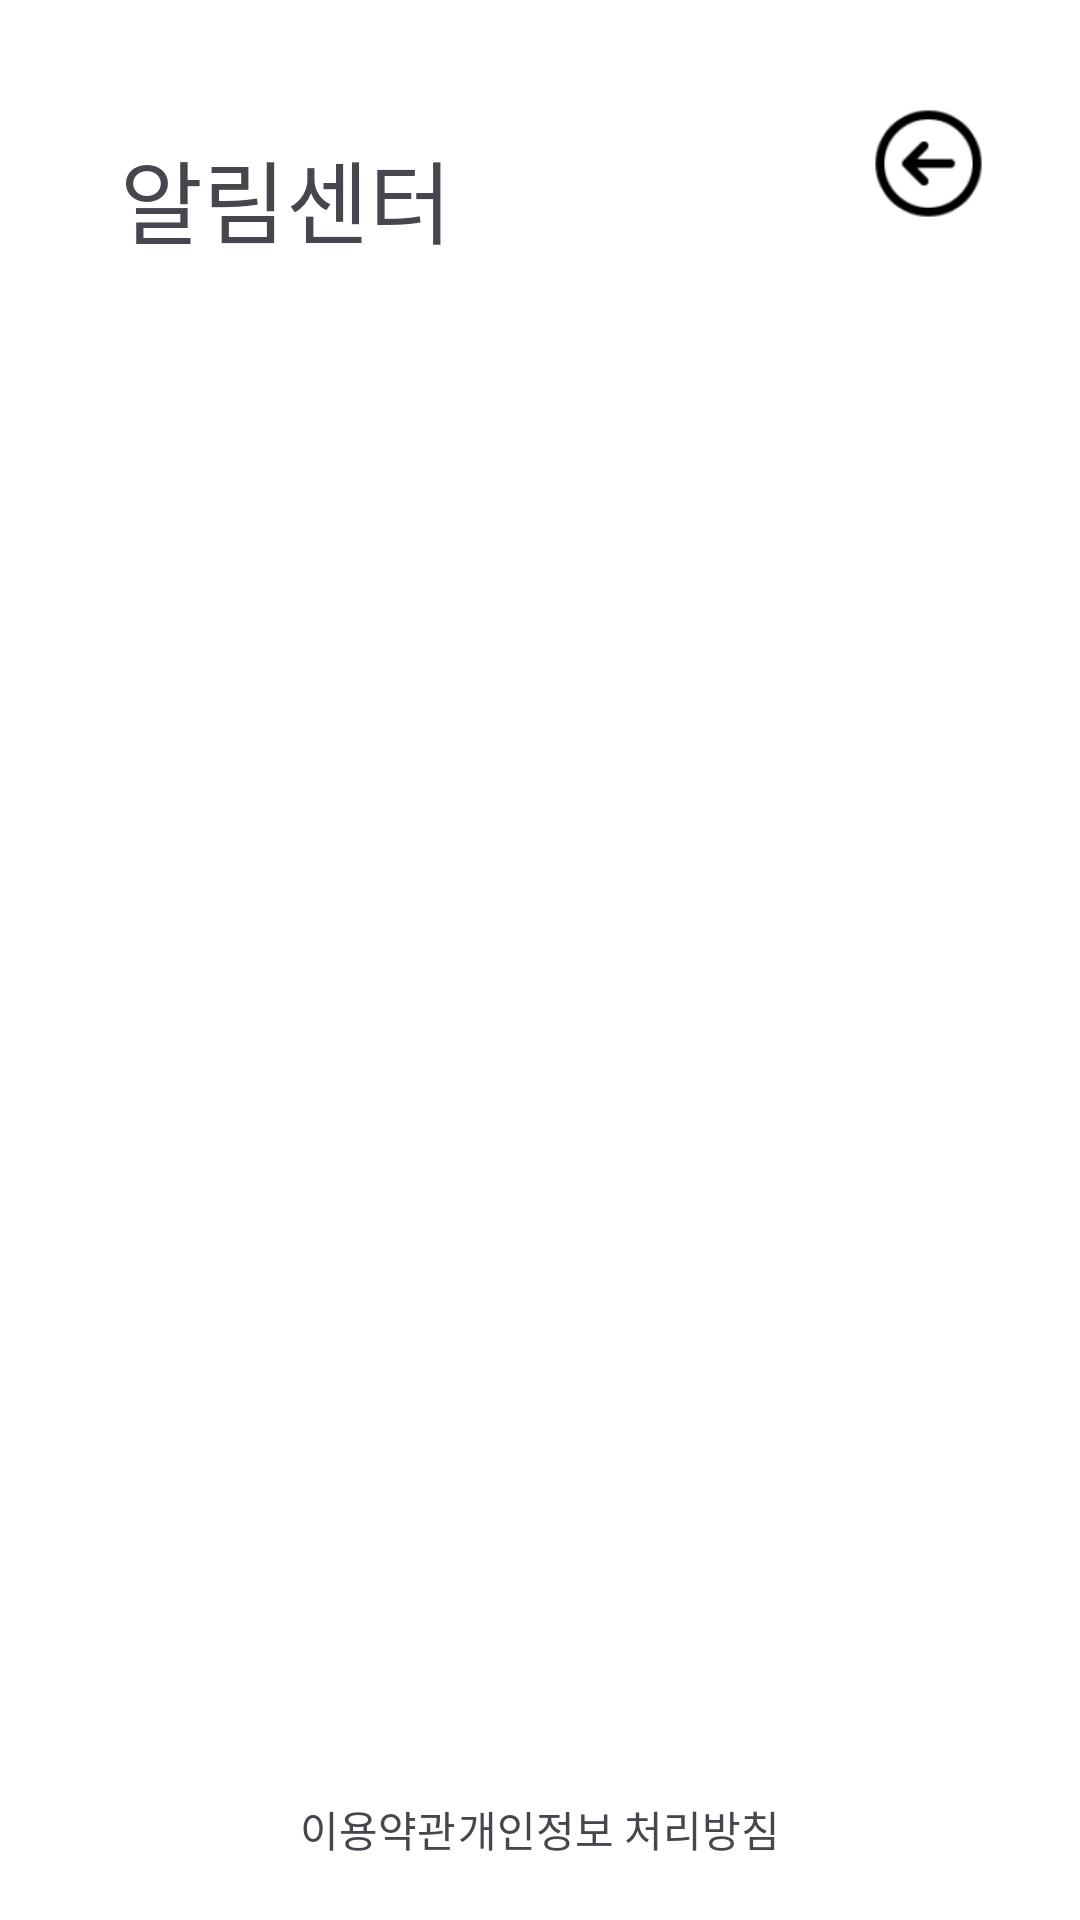

Screen size 1080 x 1920. Icon name, then its center in pixels as (x=x, y=y):
arrow: (x=928, y=163)
